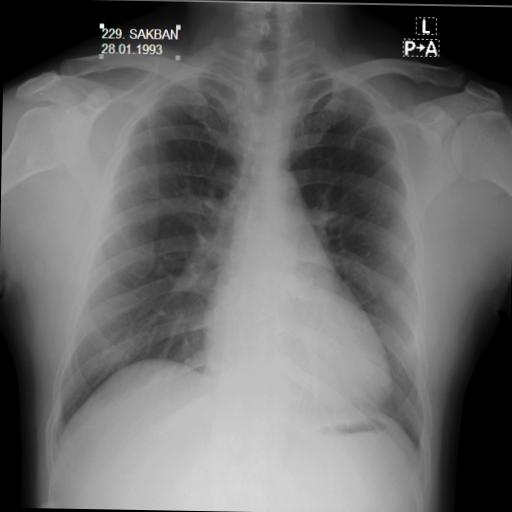kardiomegali: (42, 40, 441, 466)
